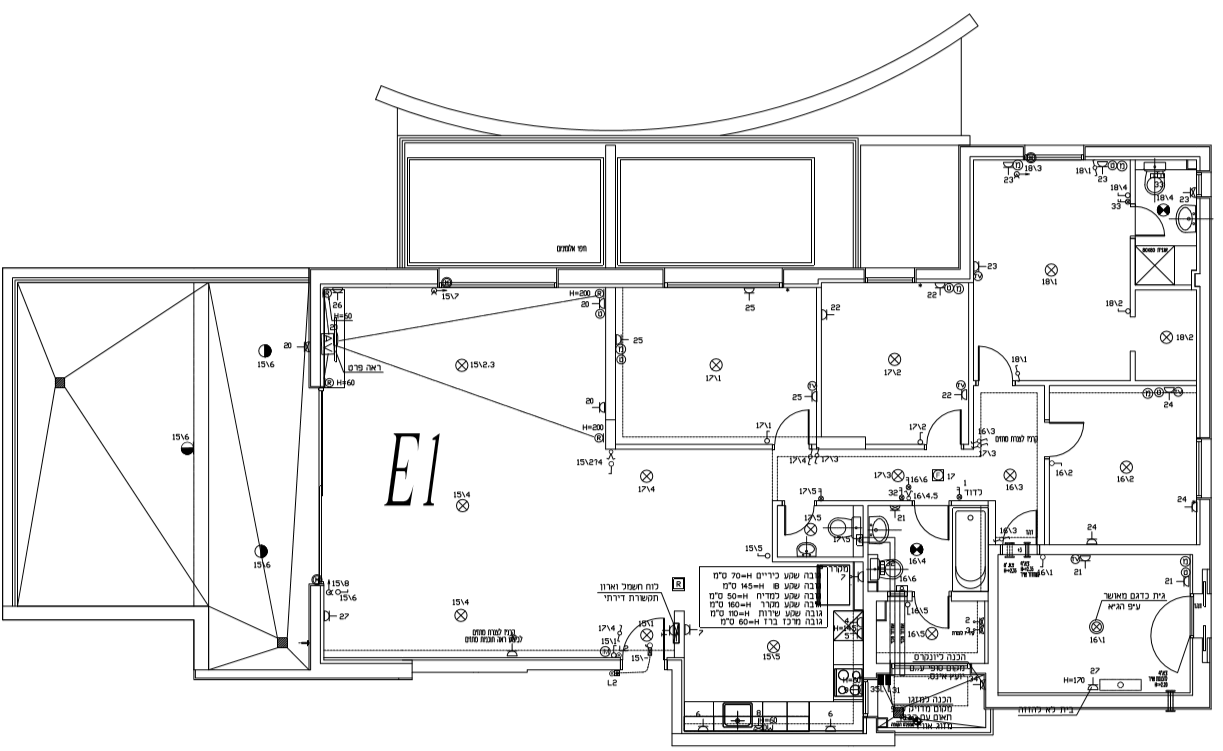door: (1051, 412, 1091, 460), (772, 403, 812, 439), (976, 340, 1013, 377), (929, 407, 966, 444), (915, 509, 950, 543), (915, 601, 951, 631), (1005, 509, 1041, 539), (1137, 207, 1169, 238), (783, 511, 815, 538)
